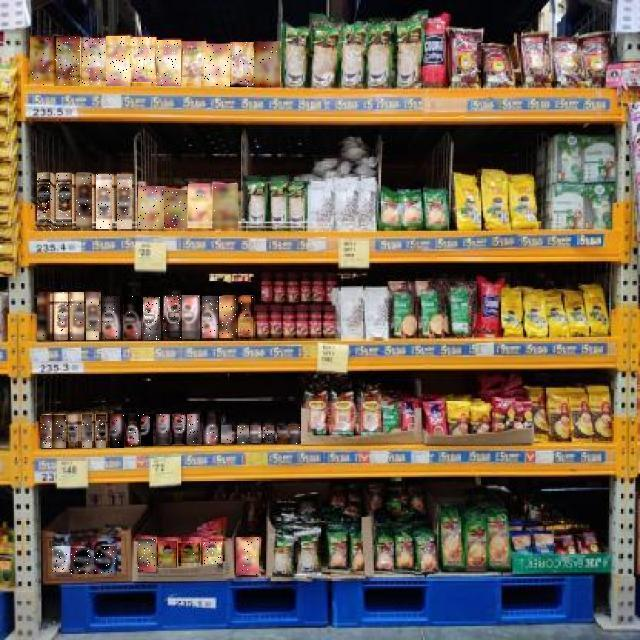Coffee: (55, 36, 81, 86), (30, 38, 56, 86), (130, 38, 156, 86), (107, 36, 131, 86), (255, 42, 281, 87), (156, 40, 181, 86), (82, 38, 106, 85), (138, 186, 164, 229), (213, 184, 238, 228), (204, 45, 230, 87), (231, 42, 255, 87), (188, 184, 212, 228), (182, 42, 204, 86), (38, 174, 54, 230), (57, 174, 73, 230), (77, 174, 93, 230), (97, 174, 113, 229), (236, 537, 259, 575), (164, 190, 187, 228), (163, 295, 182, 339), (117, 174, 132, 229), (182, 295, 200, 339), (102, 296, 120, 339), (220, 296, 238, 338), (143, 297, 160, 340), (124, 297, 141, 339), (238, 296, 254, 339), (38, 292, 52, 340), (54, 292, 68, 340), (70, 292, 84, 340), (202, 297, 218, 339), (94, 546, 117, 574), (86, 292, 99, 340), (71, 548, 94, 574), (138, 539, 156, 572), (158, 541, 177, 568), (178, 544, 200, 566), (110, 415, 124, 449), (52, 546, 70, 572), (52, 415, 66, 448), (204, 413, 218, 445), (142, 414, 156, 446), (126, 415, 140, 447), (203, 542, 223, 564), (172, 414, 186, 444), (188, 414, 202, 444), (156, 414, 170, 444), (67, 414, 79, 448), (40, 415, 52, 448), (96, 414, 106, 448), (82, 414, 92, 448), (288, 425, 300, 445), (262, 425, 275, 443), (237, 425, 249, 444), (222, 425, 234, 443), (250, 425, 261, 443), (277, 426, 288, 444)
